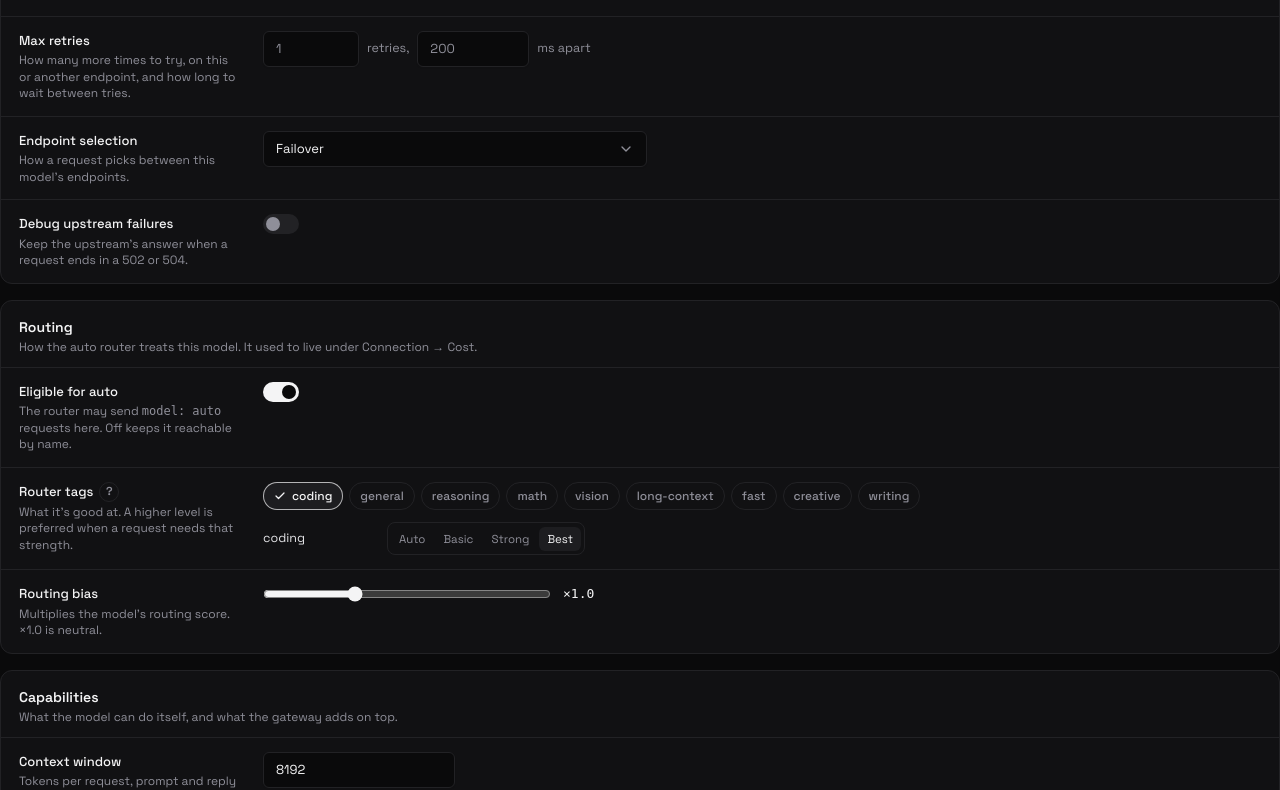
Test case: the model settings form › counts a switch turned off, which submits nothing
The image size is (1280, 790).
(page scrolled)
Click the switch named "auto_eligible": (281, 392) [263,382,299,402]
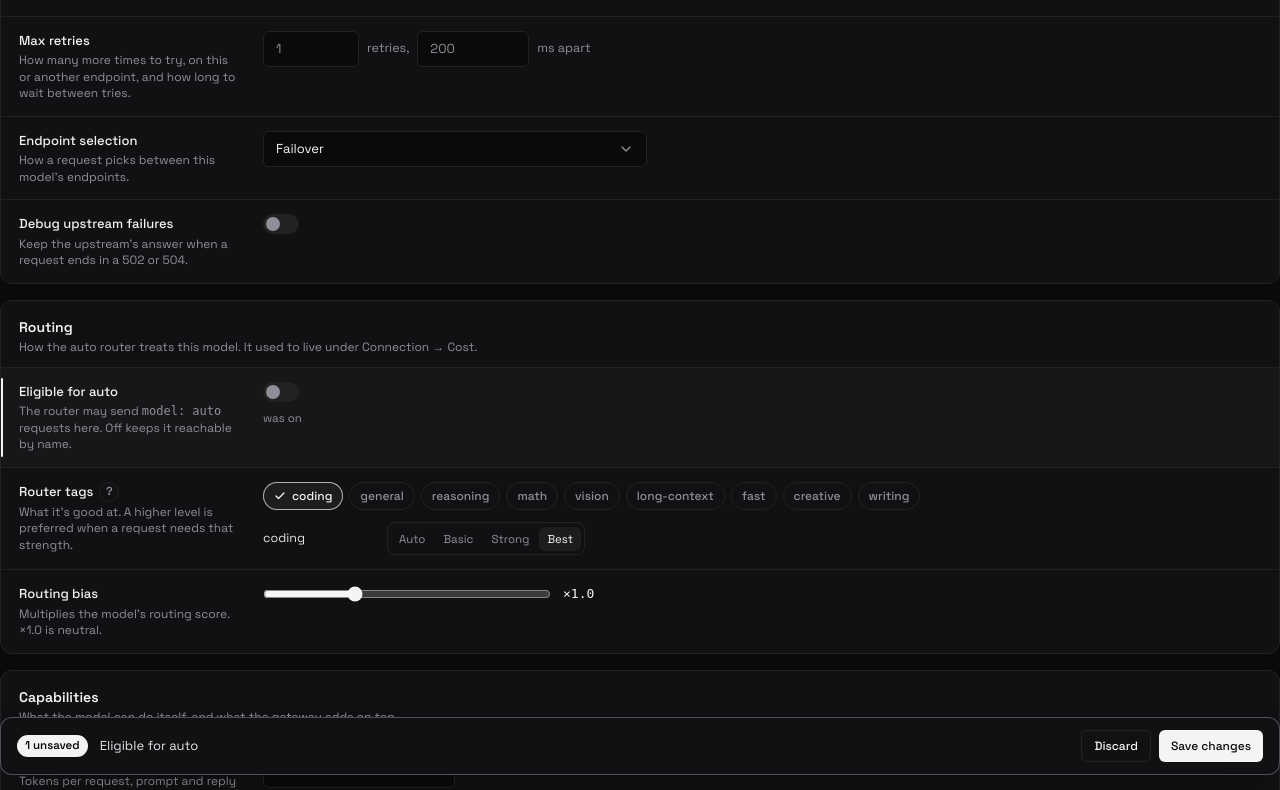
Now the element named "Unsaved changes" shows "Eligible for auto", box [100,737,198,754]
